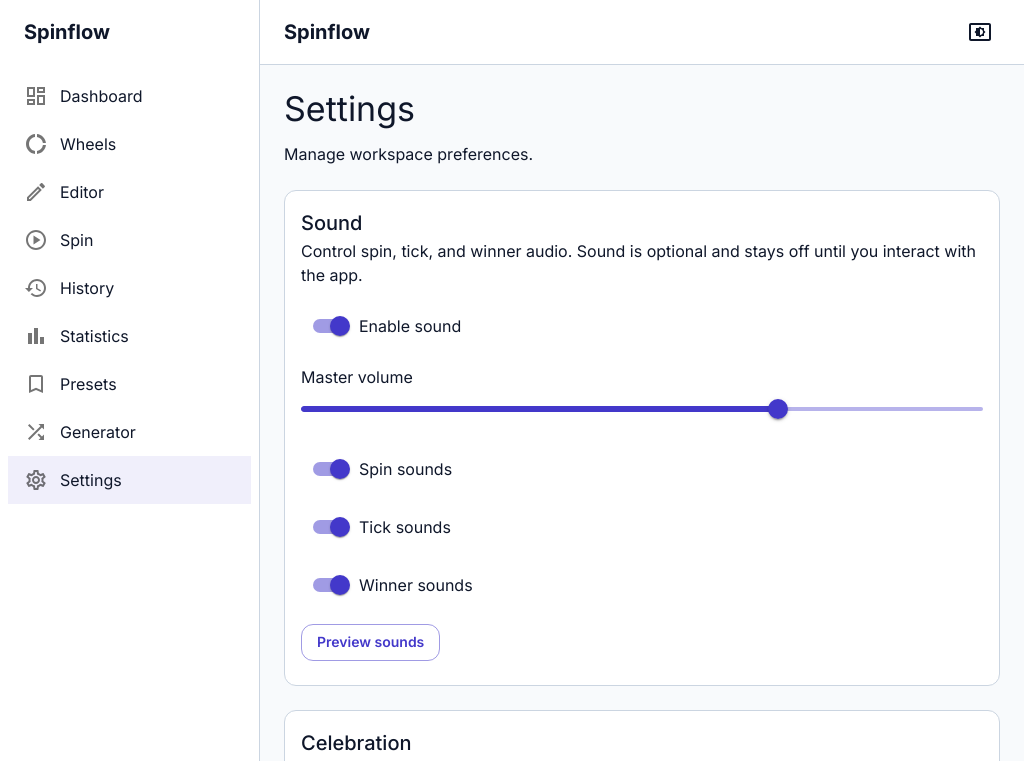
Test case: SettingsScreen › lets the user disable sound and individual channels
The image size is (1024, 761).
Expected: the heading "Settings" is shown, [284,88,415,129]
Expected: the switch labelled "Enable sound" is checked, [313,316,461,336]
Click the switch labelled "Tick sounds" at [382, 528], box [313,518,451,538]
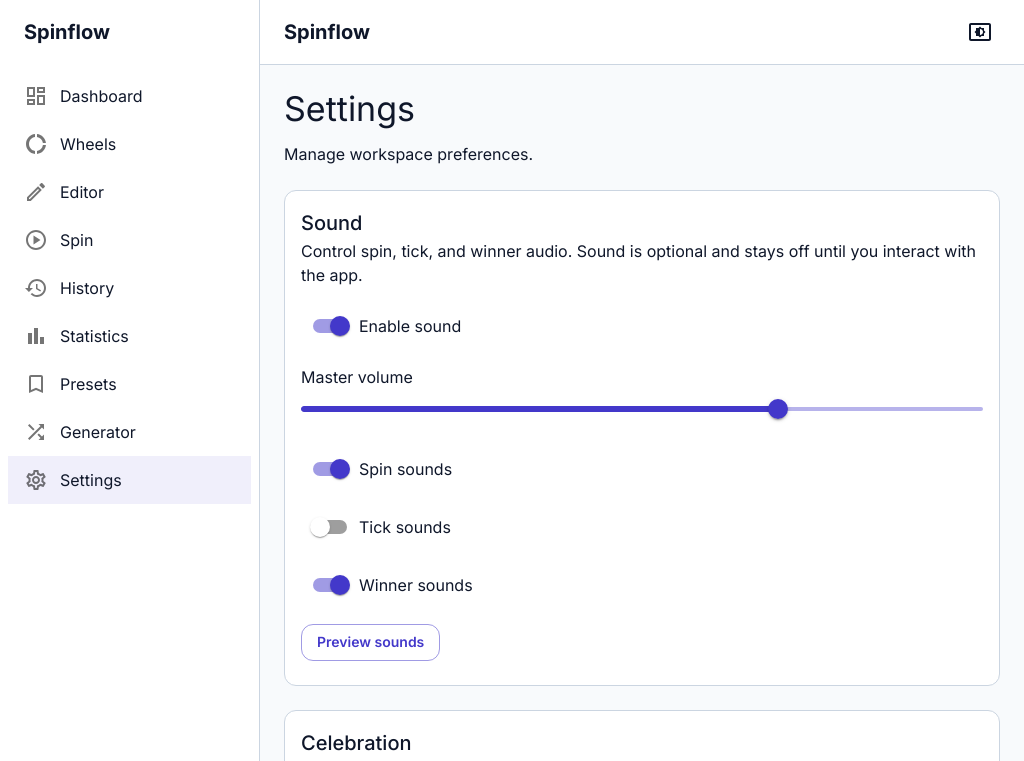
Click the switch labelled "Enable sound" at [387, 326], box [313,316,461,336]
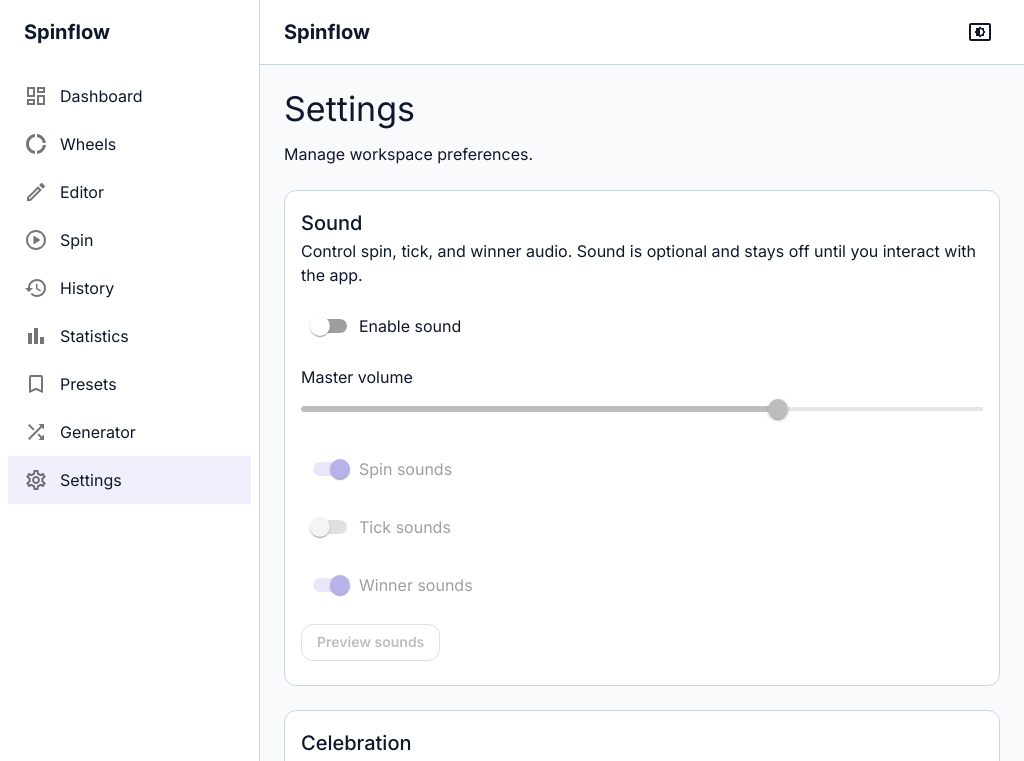
Result: the switch labelled "Spin sounds" is disabled at [313,460,452,480]
Result: the button "Preview sounds" is disabled at [301,624,440,661]
